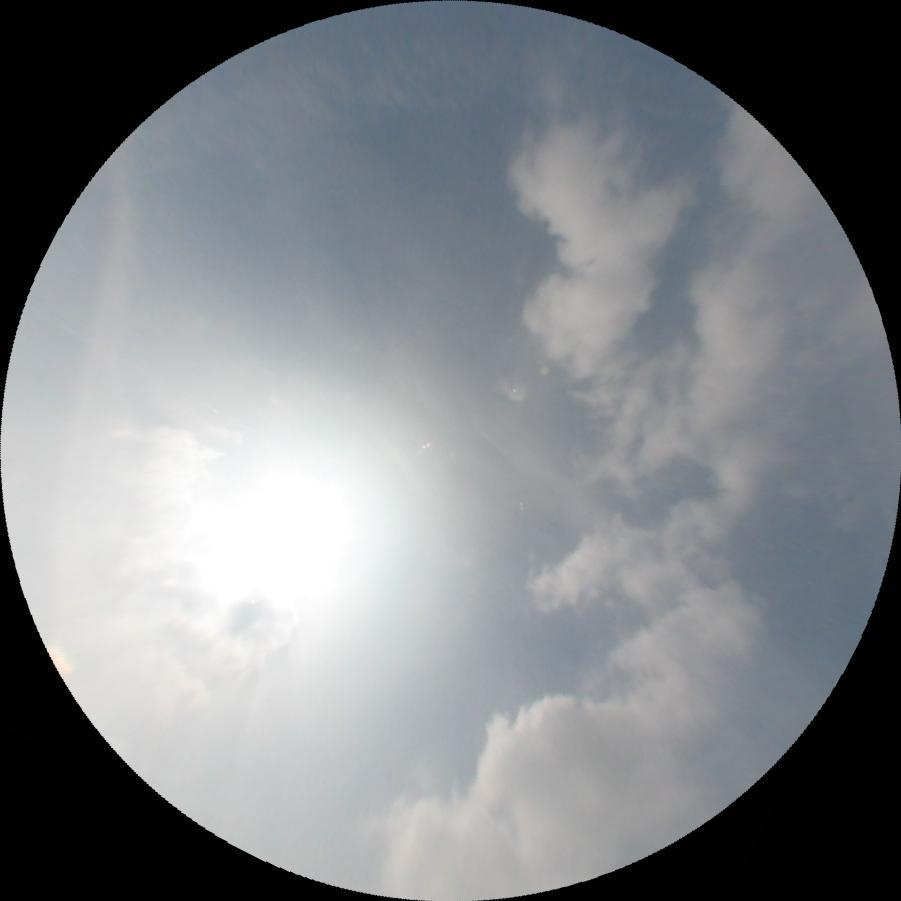sun: (220, 448, 382, 606)
